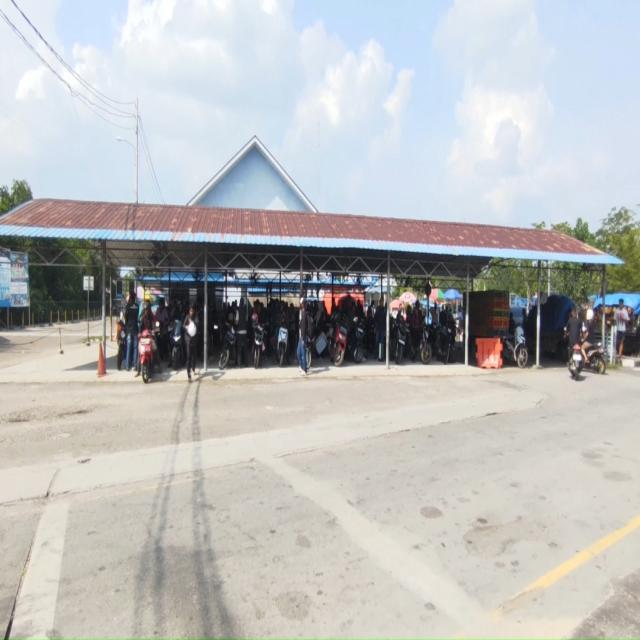Golongan II: (138, 322, 160, 383), (503, 325, 528, 369), (169, 319, 186, 370), (219, 322, 236, 370), (438, 323, 456, 364), (333, 318, 348, 366), (584, 342, 606, 374), (395, 315, 409, 365), (252, 322, 266, 370), (352, 317, 365, 363), (568, 344, 584, 380), (275, 326, 289, 367), (116, 319, 127, 371), (419, 322, 432, 364), (157, 322, 170, 361)
